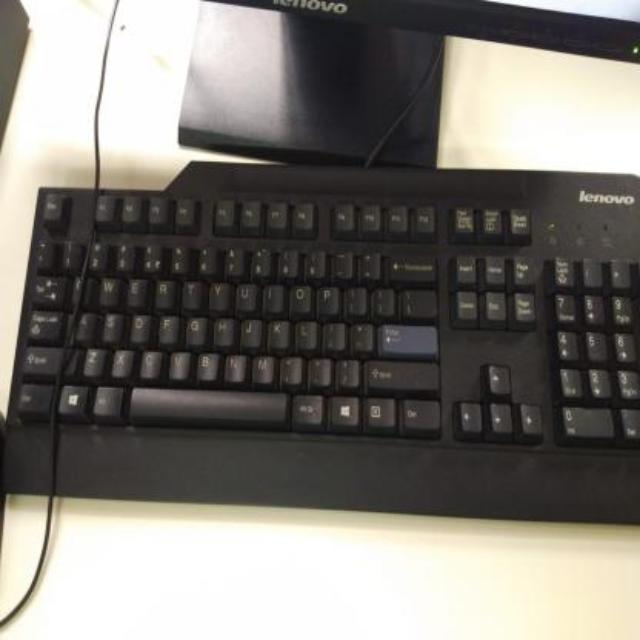Computer-Keyboard: (5, 157, 640, 527)
